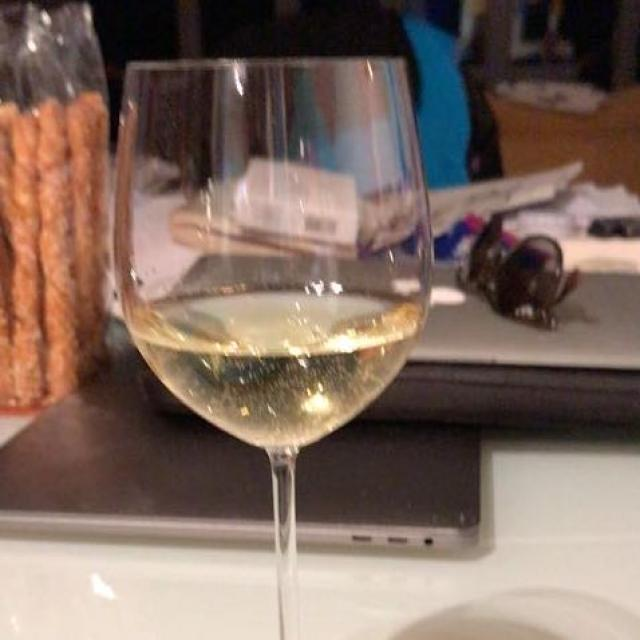wine-white: (132, 275, 447, 453), (105, 302, 407, 464)
